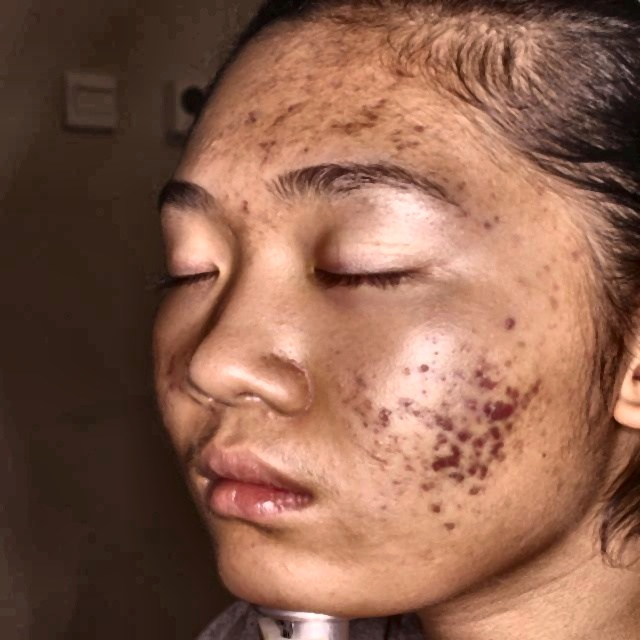papule: (376, 400, 408, 446), (384, 123, 422, 158), (257, 132, 284, 166), (346, 110, 380, 136), (452, 420, 482, 448), (237, 194, 268, 221), (435, 405, 459, 437), (443, 469, 469, 498), (426, 450, 451, 480), (506, 305, 530, 336), (484, 419, 511, 444), (473, 458, 500, 483), (503, 380, 531, 400), (527, 374, 555, 394), (484, 398, 506, 418), (461, 396, 483, 416), (413, 358, 436, 376), (487, 444, 503, 464), (478, 373, 497, 387), (467, 362, 484, 376), (446, 452, 461, 464)
